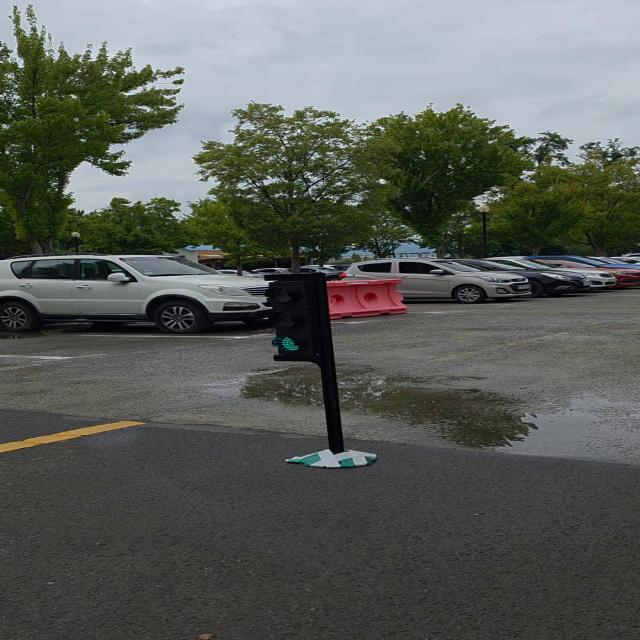green: (267, 274, 336, 364)
